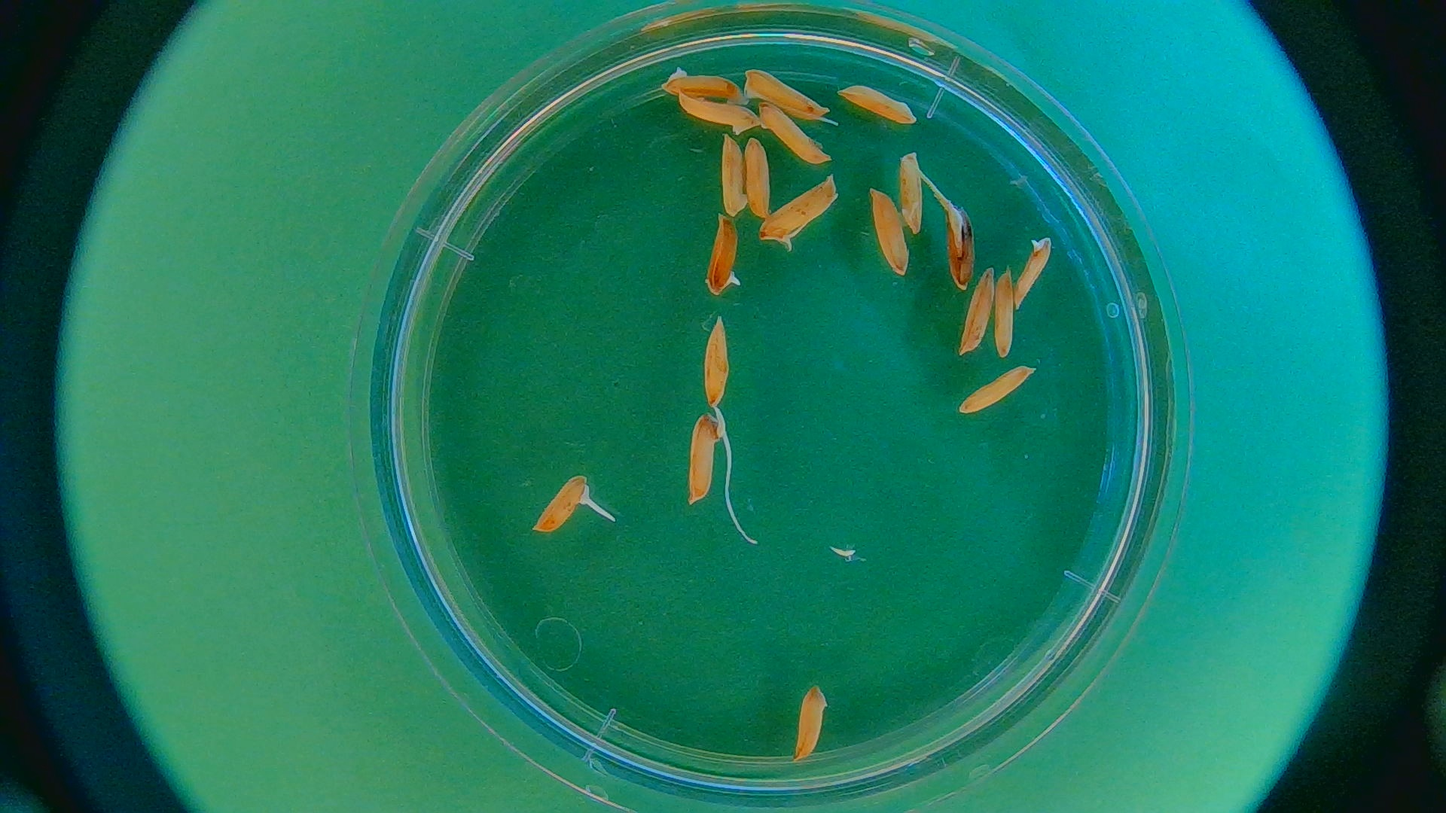no: (761, 104, 830, 163), (668, 90, 759, 134), (959, 364, 1035, 416), (869, 192, 912, 274), (840, 82, 916, 123), (664, 65, 748, 102), (960, 269, 994, 356), (715, 136, 751, 218), (702, 311, 731, 406), (1014, 236, 1052, 308), (745, 137, 775, 220), (793, 687, 826, 762), (901, 151, 923, 233), (996, 272, 1015, 356)
yes: (745, 69, 840, 131), (756, 179, 837, 249), (688, 410, 727, 504), (532, 476, 596, 531), (704, 216, 741, 297), (943, 202, 975, 286)
